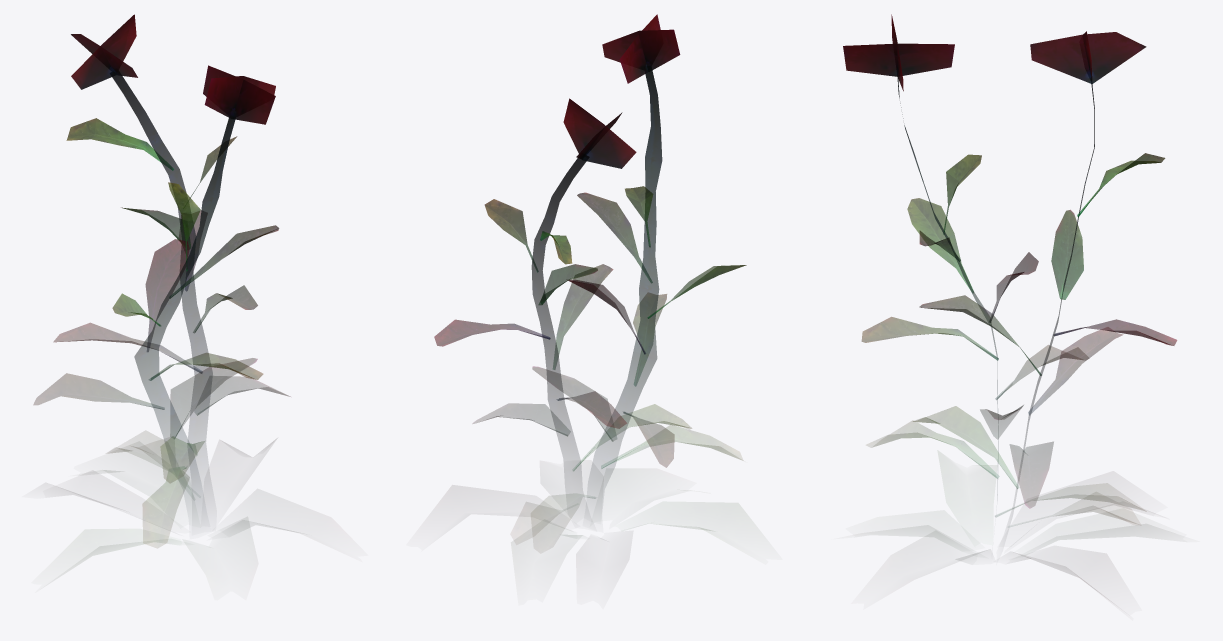
The model's file is poppies-transformed.glb.
3 views of the same model, side by side, from view 1: azimuth 30°, elevation 25°; view 2: azimuth 150°, elevation 25°; view 3: azimuth 270°, elevation 25° (orthographic). The views are drawn at different scales.
Visible parts, largest first — view 1: SM_vmcobd0ja_VarA_LOD1; view 2: SM_vmcobd0ja_VarA_LOD1; view 3: SM_vmcobd0ja_VarA_LOD1.
Part boxes in pixels (x1,y1,x2,y2): SM_vmcobd0ja_VarA_LOD1: (33, 14, 293, 552); SM_vmcobd0ja_VarA_LOD1: (434, 14, 746, 552); SM_vmcobd0ja_VarA_LOD1: (843, 14, 1176, 593).
Size of the model in its own units: 0.4284 by 0.67 by 0.4449.
1 material, 1 textured.
